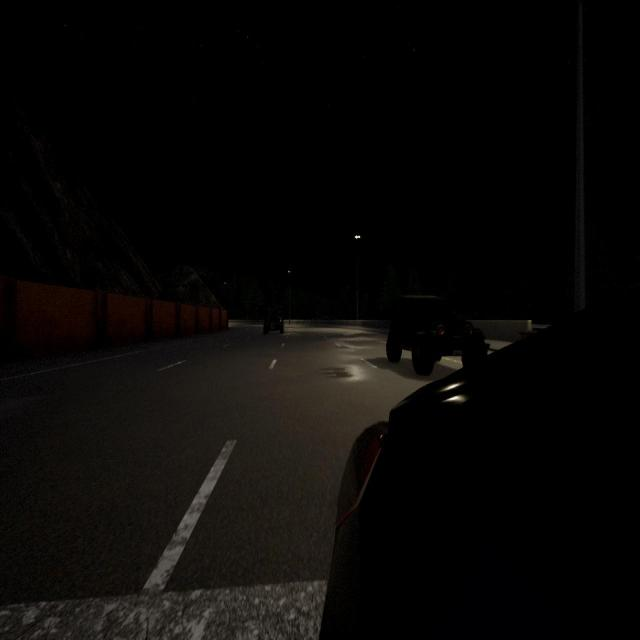Vehicle: (320, 287, 640, 637), (386, 295, 489, 376), (263, 312, 284, 334)
